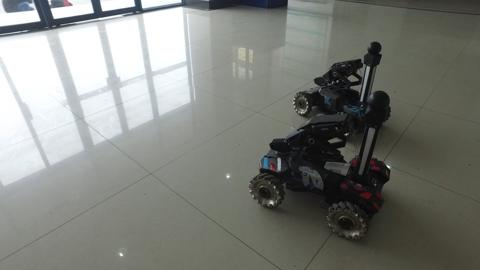chariot: (245, 97, 403, 242), (287, 38, 398, 147)
